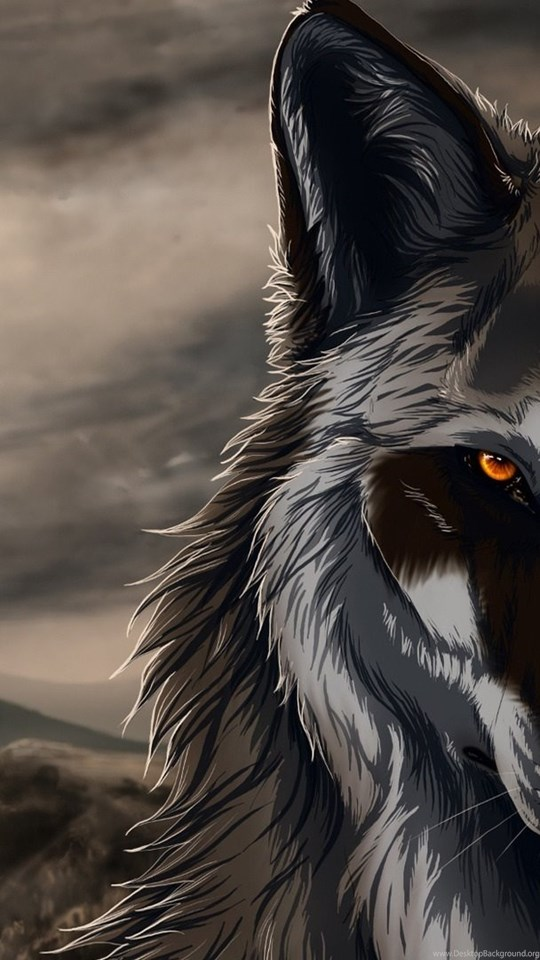Lobo: (150, 17, 540, 899)
